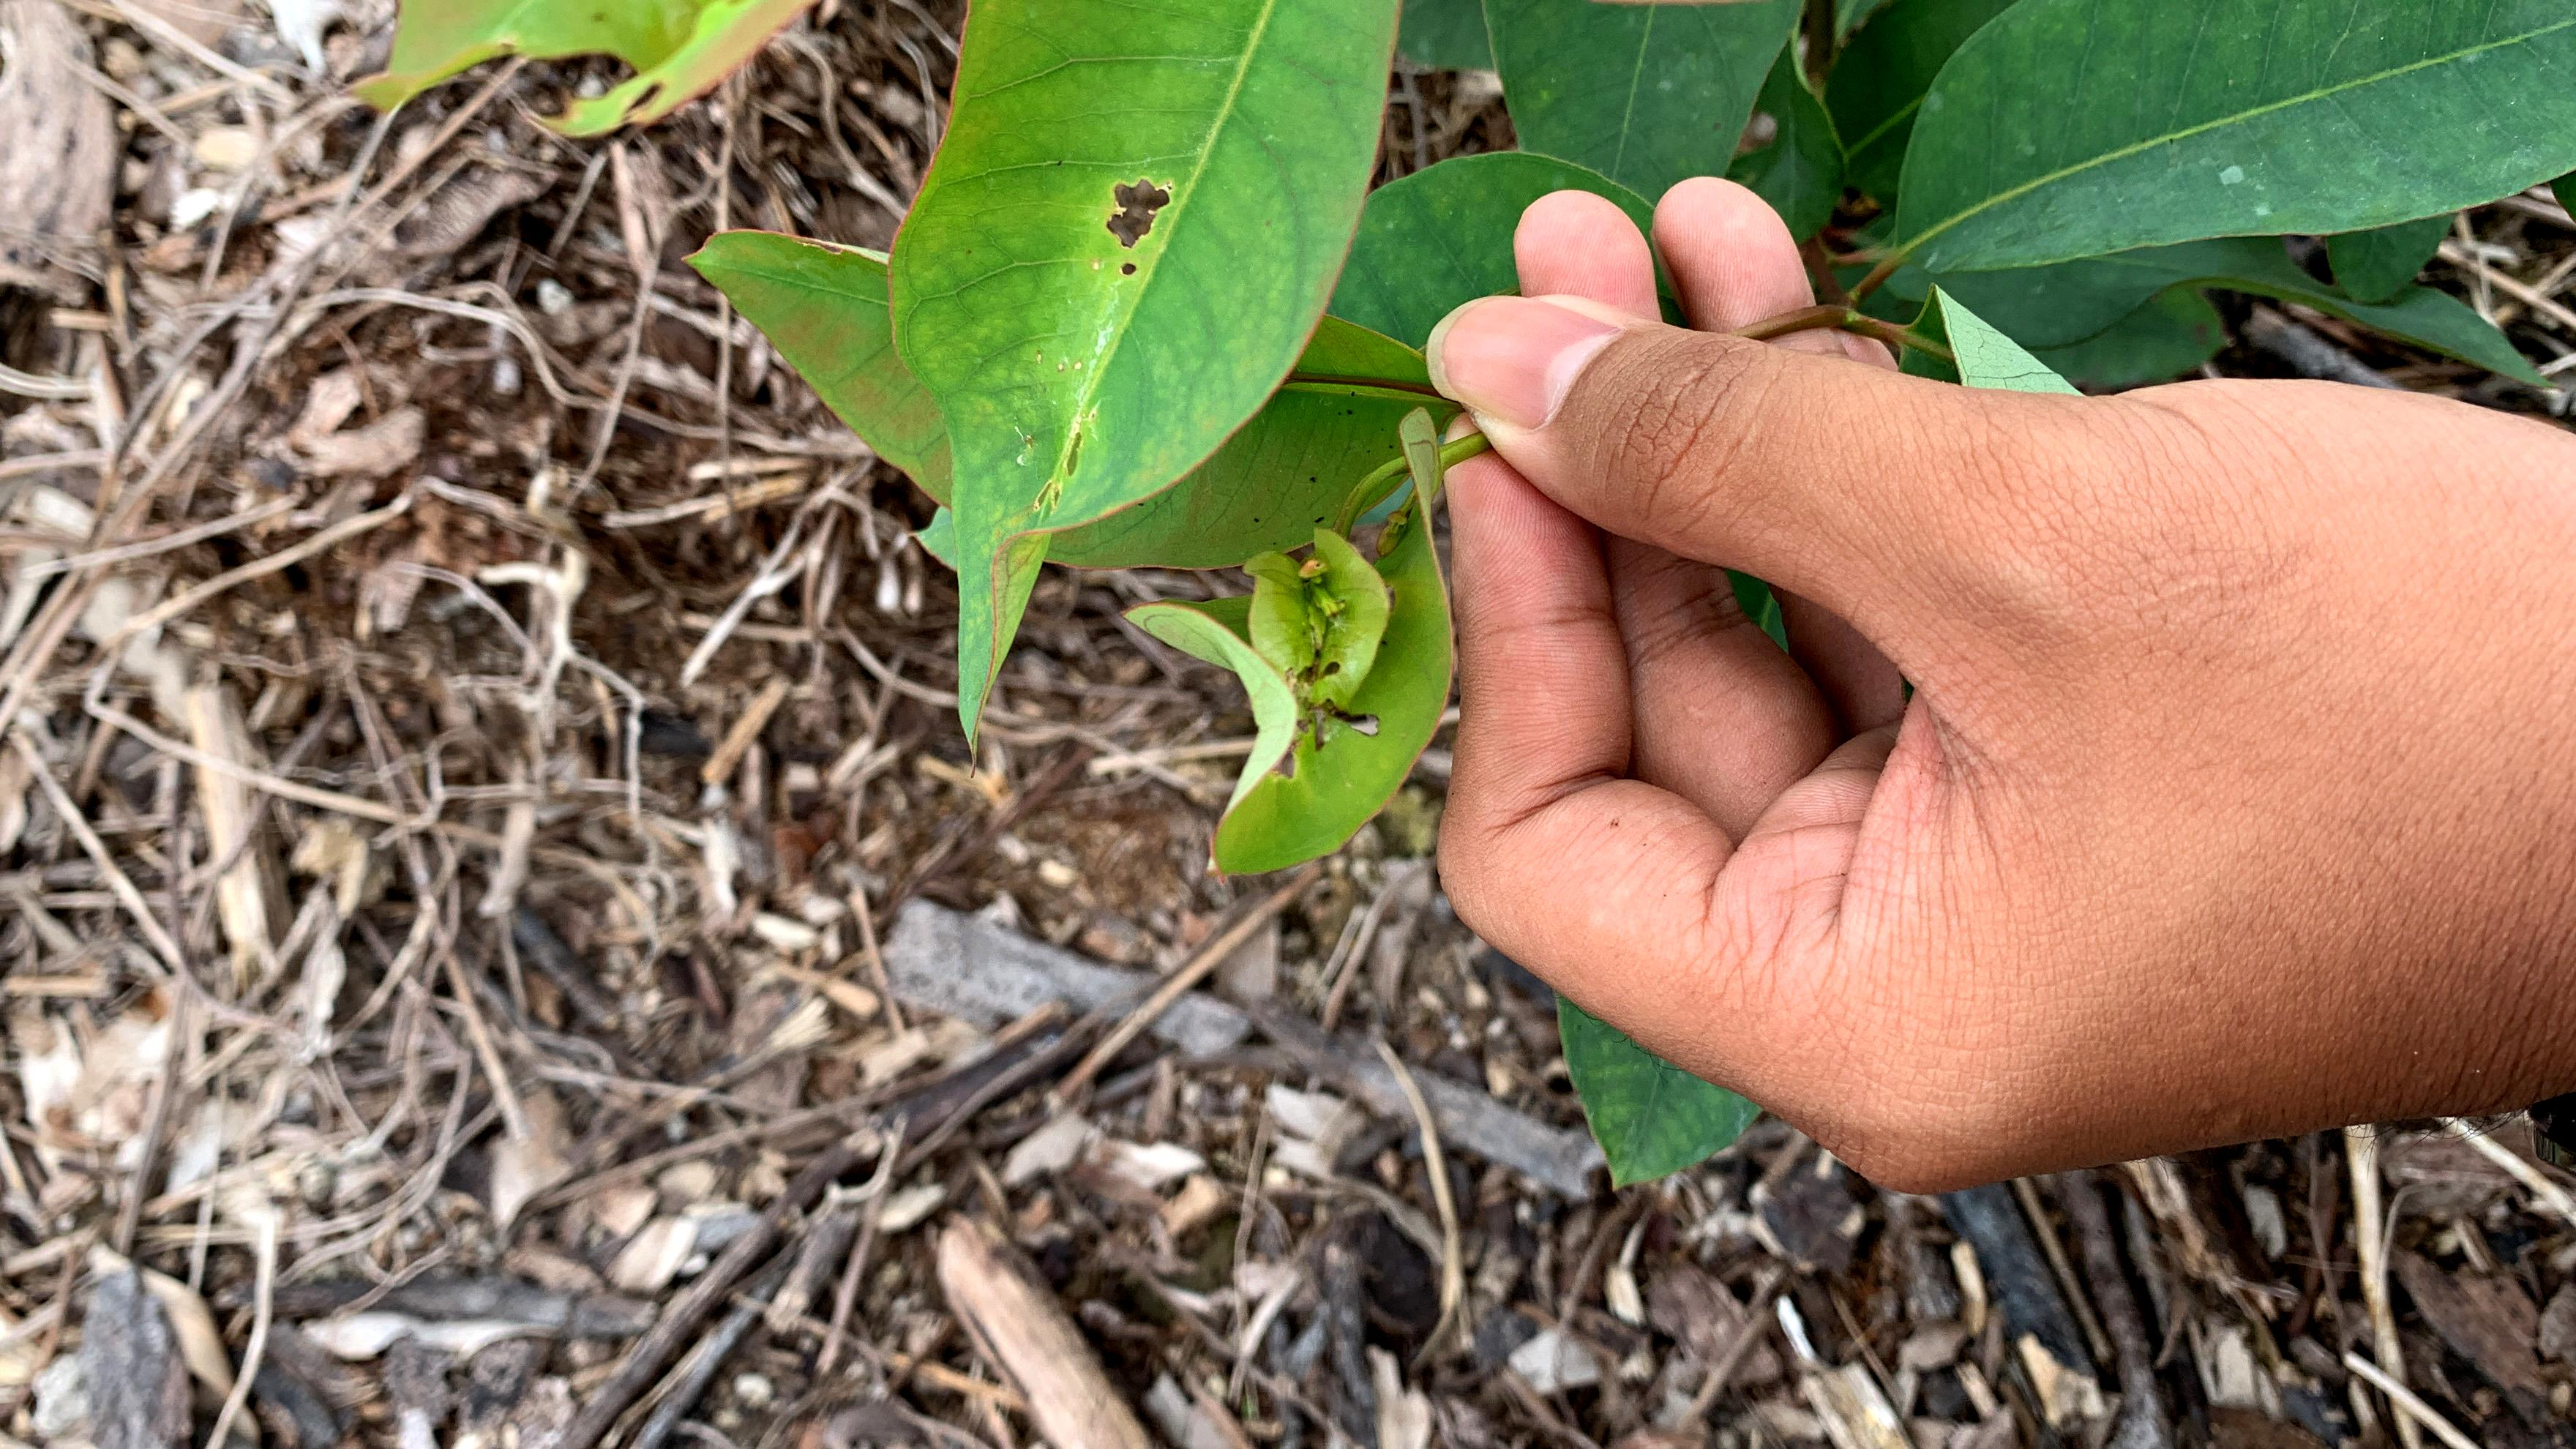Leaf Roller - Leaf: (1125, 425, 1458, 890)
